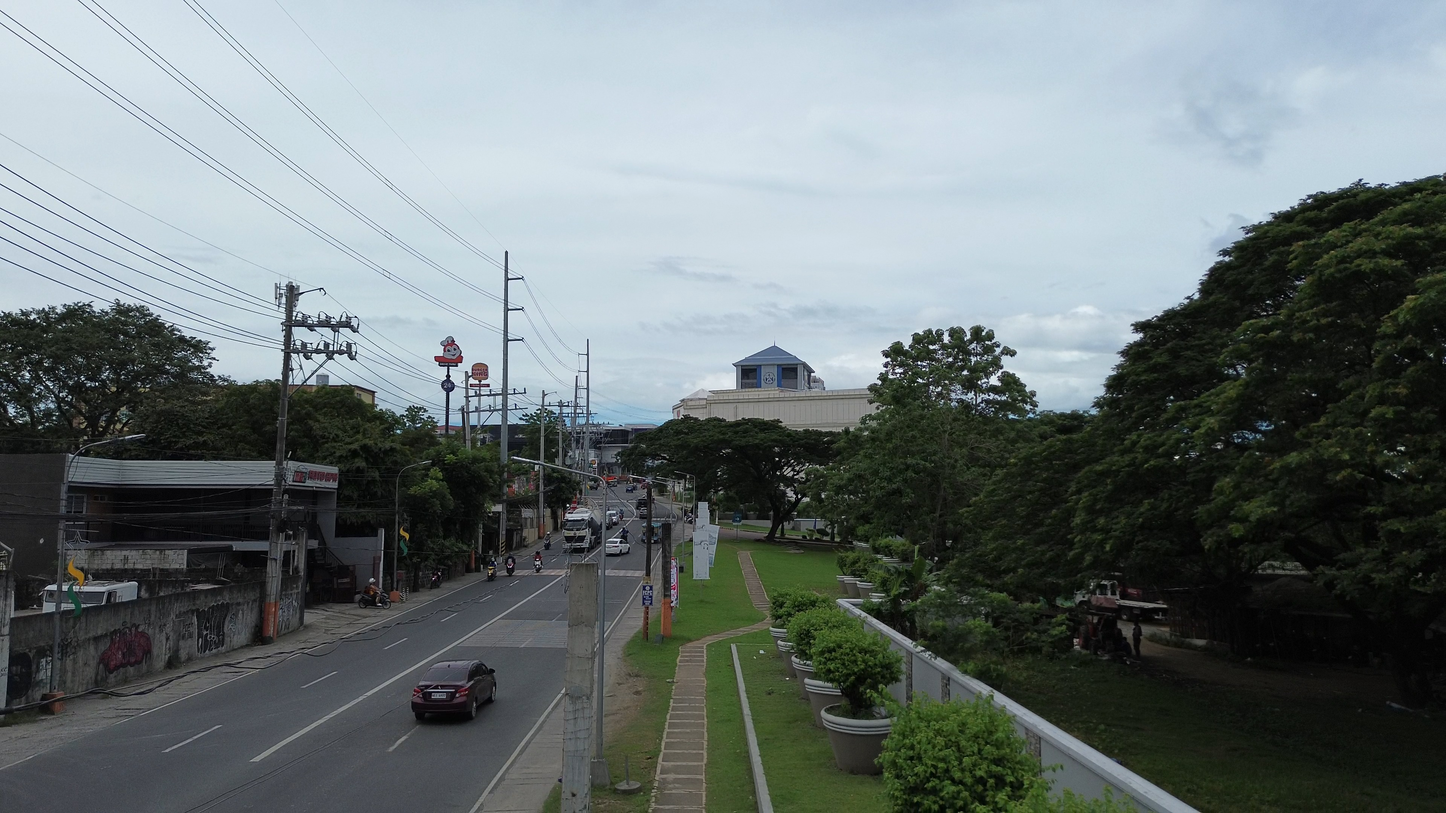car: (411, 661, 494, 720), (604, 536, 630, 555), (625, 483, 636, 493)
motorcycle: (357, 592, 391, 608), (429, 569, 442, 589), (505, 556, 515, 576), (487, 563, 496, 580), (534, 557, 543, 573)
vehicle: (1073, 580, 1167, 619), (563, 505, 604, 552), (74, 580, 138, 606), (607, 509, 620, 528), (505, 555, 516, 576), (486, 562, 496, 582), (635, 497, 646, 512)
